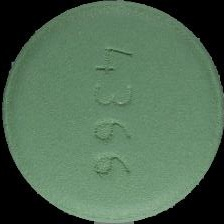54868-4903: (0, 0, 224, 224)
